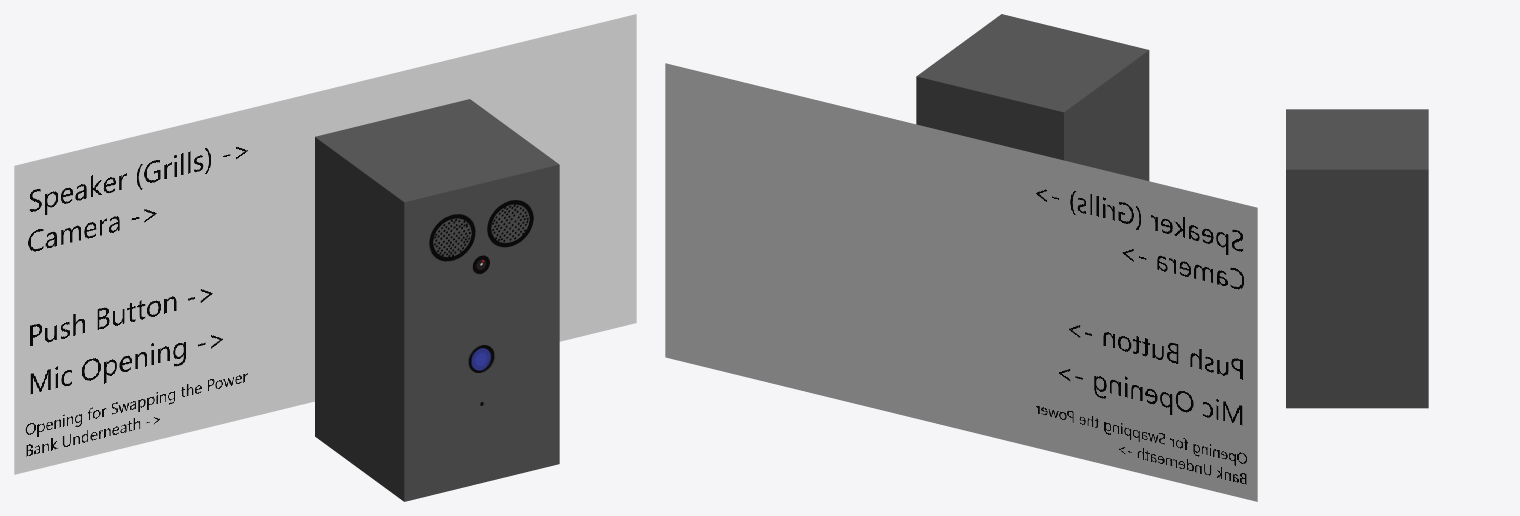
Rendered from Smart Doorbell Case V2.glb.
3 renders of one model, left to right at view 1: azimuth 30°, elevation 25°; view 2: azimuth 150°, elevation 25°; view 3: azimuth 270°, elevation 25°, orthographic. The views are drawn at different scales.
Visible parts, largest first — view 1: mesh_id1, mesh_id29; view 2: mesh_id1, mesh_id29; view 3: mesh_id29.
Part boxes in pixels (x1,y1,x2,y2): mesh_id1: (14,14,636,474); mesh_id29: (315,99,559,501); mesh_id1: (665,63,1257,501); mesh_id29: (916,14,1149,180); mesh_id29: (1286,109,1428,408).
Bounding box in the file's own units: 1.42 × 0.6787 × 0.5443.
Materials: 2 (2 with a texture image).
